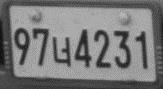1: (133, 30, 149, 70)
2: (93, 28, 112, 68)
3: (113, 29, 131, 68)
4: (74, 27, 92, 67)
7: (32, 27, 49, 65)
9: (13, 26, 30, 65)
너: (52, 35, 71, 67)
